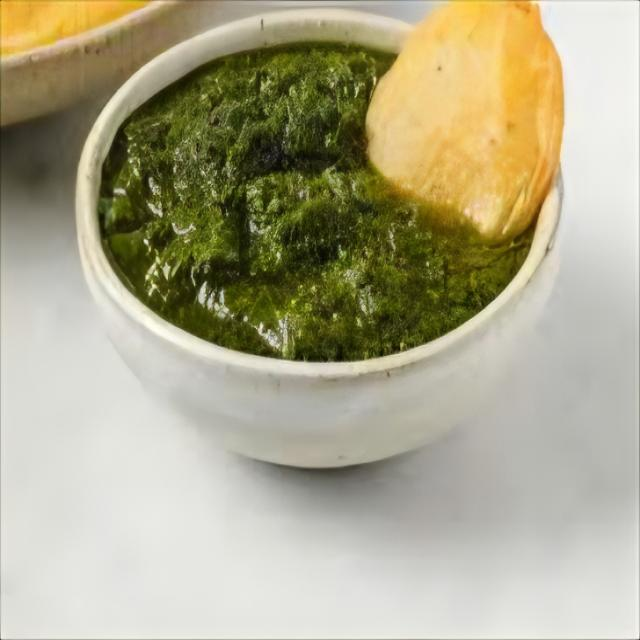GREEN CHUTNEY: (108, 38, 495, 372)
